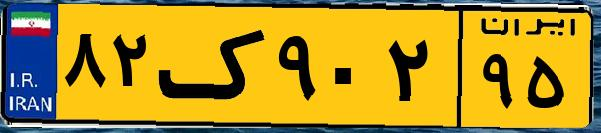0: (330, 28, 385, 110)
2: (385, 28, 445, 110), (110, 28, 158, 98)
5: (525, 38, 570, 115)
8: (57, 26, 110, 100)
9: (270, 28, 330, 110), (475, 38, 525, 113)
ک: (158, 12, 270, 120)
